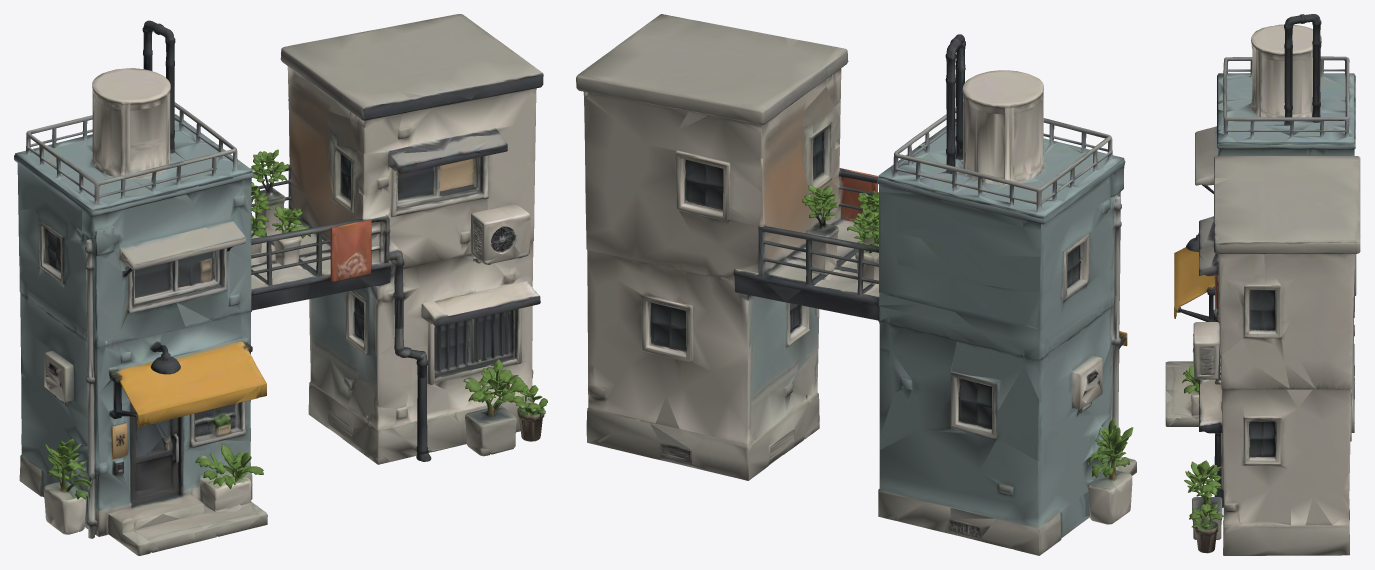
Rendered from building23.glb.
3 views of the same model, side by side, from view 1: azimuth 30°, elevation 25°; view 2: azimuth 150°, elevation 25°; view 3: azimuth 270°, elevation 25° (orthographic). The views are drawn at different scales.
Visible parts, largest first — view 1: tripo_node_7ca1bfb1-330a-4f4e-a257-e8df7db3333a; view 2: tripo_node_7ca1bfb1-330a-4f4e-a257-e8df7db3333a; view 3: tripo_node_7ca1bfb1-330a-4f4e-a257-e8df7db3333a.
Boxes of the visible parts, x1=… form: tripo_node_7ca1bfb1-330a-4f4e-a257-e8df7db3333a: x1=14, y1=14, x2=547, y2=555; tripo_node_7ca1bfb1-330a-4f4e-a257-e8df7db3333a: x1=576, y1=14, x2=1136, y2=555; tripo_node_7ca1bfb1-330a-4f4e-a257-e8df7db3333a: x1=1165, y1=14, x2=1360, y2=555.
Size of the model in its own units: 0.9756 by 0.8938 by 0.3937.
Materials: 1 (1 with a texture image).
